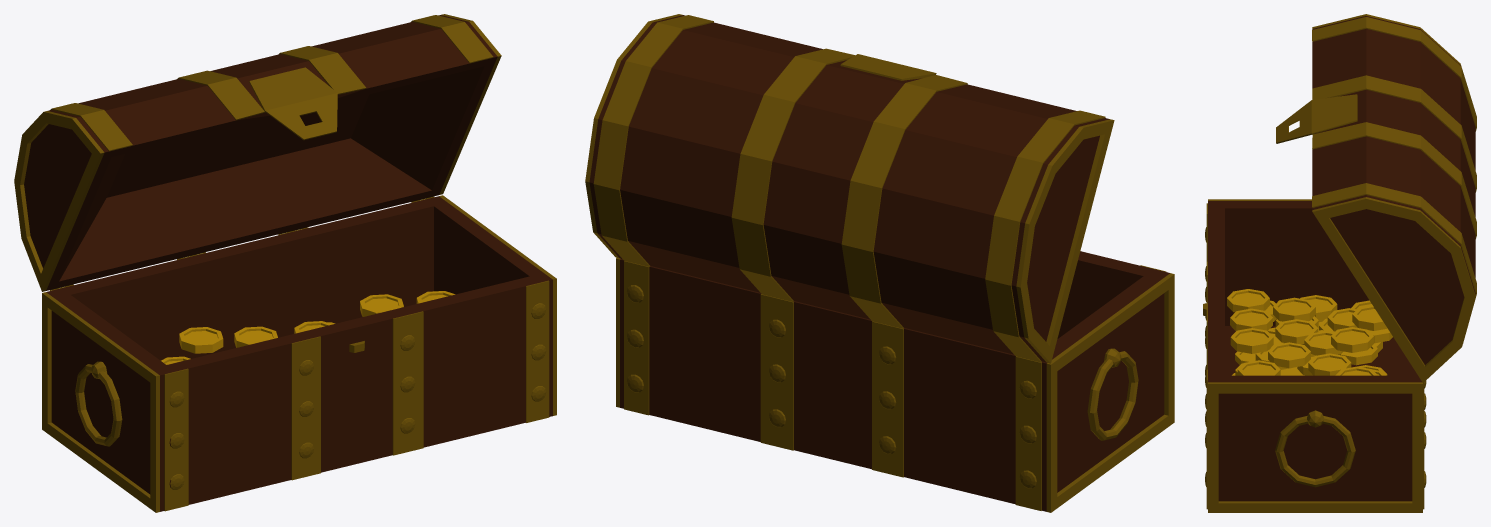
Rendered from goldkist.fbx.
3 renders of one model, left to right at view 1: azimuth 30°, elevation 25°; view 2: azimuth 150°, elevation 25°; view 3: azimuth 270°, elevation 25°, orthographic. The views are drawn at different scales.
Visible parts, largest first — view 1: Sphere, Cube.001; view 2: Cube.001, Sphere; view 3: Cube.001, Sphere.
Boxes of the visible parts, left/top/right/bottom form: Sphere: left=42, top=195, right=556, bottom=512; Cube.001: left=14, top=14, right=501, bottom=364; Cube.001: left=585, top=14, right=1114, bottom=363; Sphere: left=616, top=251, right=1174, bottom=512; Cube.001: left=1227, top=14, right=1476, bottom=382; Sphere: left=1203, top=199, right=1426, bottom=512.
Size of the model in its own units: 1.06 by 0.8087 by 0.6367.
